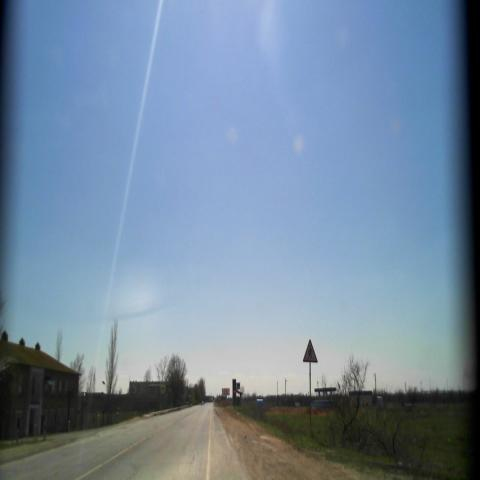1_22: (301, 336, 319, 362)
